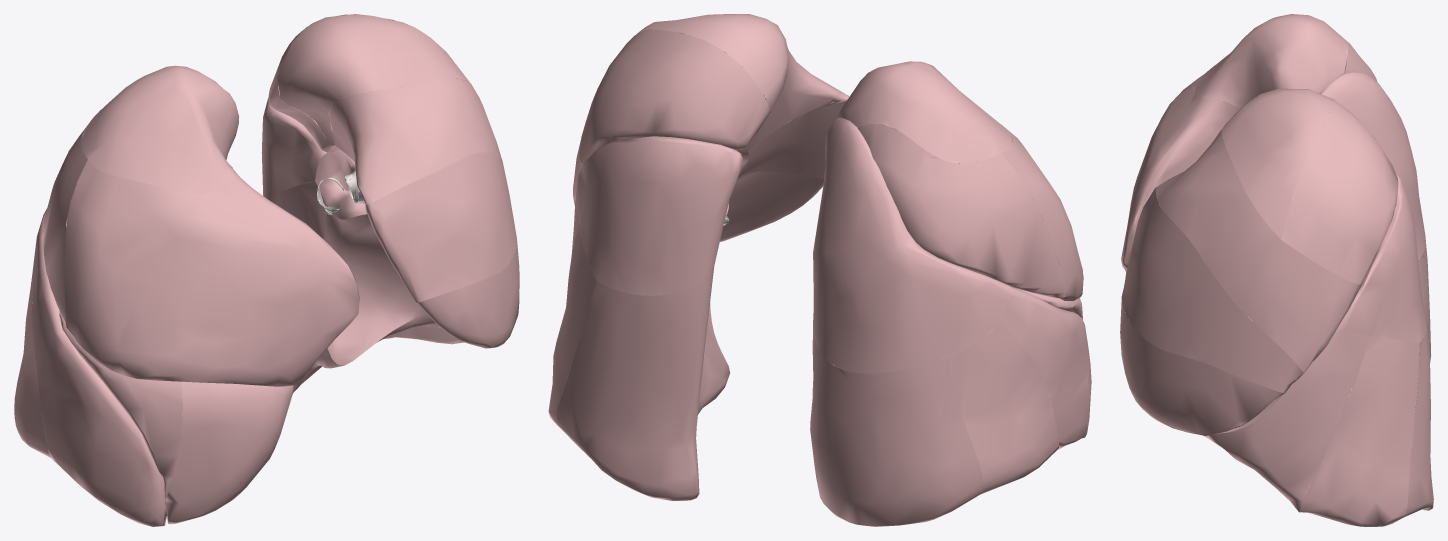
The model's file is 3d-vh-f-lung-20.fbx.
The picture shows the model from 3 angles, left to right: view 1: azimuth 30°, elevation 25°; view 2: azimuth 150°, elevation 25°; view 3: azimuth 270°, elevation 25°; orthographic projection. The views are drawn at different scales.
Visible parts, largest first — view 1: VH_F_right_anterior_bronchopulmonary_segm, VH_F_right_anterior_basal_bronchopulmonary_segment, VH_F_lingula_superior_bronchopulmonary_segment, VH_F_right_apical_bronchopulmonary_segment, VH_F_left_anterior_bronchopulmonary_segment, VH_F_left_apical_bronchopulmonary_segment, VH_F_right_medial_bronchopulmonary_segment, VH_F_left_medial_basal_bronchopulmonary_segment, VH_F_lingula_inferior_bronchopulmonary_segment, VH_F_right_lateral_bronchopulmonary_segmennt, VH_F_left_superior_bronchopulmonary_segment, VH_F_right_posterior_bronchopulmonary_segment (+6 smaller); view 2: VH_F_right_superior_bronchopulmonary_segment, VH_F_left_posterior_basal_bronchopulmonary_segment, VH_F_right_posterior_basal_bronchopulmonary_segment, VH_F_left_superior_bronchopulmonary_segment, VH_F_right_posterior_bronchopulmonary_segment, VH_F_left_posterior_bronchopulmonary_segment, VH_F_right_lateral_basal_bronchopulmonary_segment, VH_F_right_apical_bronchopulmonary_segment, VH_F_right_anterior_basal_bronchopulmonary_segment, VH_F_left_apical_bronchopulmonary_segment, VH_F_lingula_inferior_bronchopulmonary_segment, VH_F_lingula_superior_bronchopulmonary_segment (+3 smaller); view 3: VH_F_left_anterior_bronchopulmonary_segment, VH_F_lingula_superior_bronchopulmonary_segment, VH_F_left_lateral_basal_bronchopulmonary_segment, VH_F_left_posterior_bronchopulmonary_segment, VH_F_left_anterior_basal_bronchopulmonary_segment, VH_F_lingula_inferior_bronchopulmonary_segment, VH_F_left_apical_bronchopulmonary_segment, VH_F_right_apical_bronchopulmonary_segment, VH_F_left_superior_bronchopulmonary_segment, VH_F_right_anterior_bronchopulmonary_segm, VH_F_right_superior_bronchopulmonary_segment, VH_F_left_posterior_basal_bronchopulmonary_segment (+2 smaller).
Boxes of the visible parts, <box> form: VH_F_right_anterior_bronchopulmonary_segm: <box>64,159,359,386</box>; VH_F_right_anterior_basal_bronchopulmonary_segment: <box>32,266,182,526</box>; VH_F_lingula_superior_bronchopulmonary_segment: <box>363,152,516,302</box>; VH_F_right_apical_bronchopulmonary_segment: <box>81,65,239,193</box>; VH_F_left_anterior_bronchopulmonary_segment: <box>329,79,502,204</box>; VH_F_left_apical_bronchopulmonary_segment: <box>277,14,471,145</box>; VH_F_right_medial_bronchopulmonary_segment: <box>164,381,293,524</box>; VH_F_left_medial_basal_bronchopulmonary_segment: <box>324,170,438,365</box>; VH_F_lingula_inferior_bronchopulmonary_segment: <box>416,241,519,348</box>; VH_F_right_lateral_bronchopulmonary_segmennt: <box>59,311,182,498</box>; VH_F_left_superior_bronchopulmonary_segment: <box>261,85,331,197</box>; VH_F_right_posterior_bronchopulmonary_segment: <box>43,110,100,325</box>; VH_F_right_superior_bronchopulmonary_segment: <box>813,117,1013,373</box>; VH_F_left_posterior_basal_bronchopulmonary_segment: <box>556,266,729,500</box>; VH_F_right_posterior_basal_bronchopulmonary_segment: <box>810,320,983,526</box>; VH_F_left_superior_bronchopulmonary_segment: <box>576,136,742,295</box>; VH_F_right_posterior_bronchopulmonary_segment: <box>857,124,1064,297</box>; VH_F_left_posterior_bronchopulmonary_segment: <box>579,29,769,164</box>; VH_F_right_lateral_basal_bronchopulmonary_segment: <box>948,323,1059,494</box>; VH_F_right_apical_bronchopulmonary_segment: <box>837,61,1012,163</box>; VH_F_right_anterior_basal_bronchopulmonary_segment: <box>946,286,1091,449</box>; VH_F_left_apical_bronchopulmonary_segment: <box>637,14,788,113</box>; VH_F_lingula_inferior_bronchopulmonary_segment: <box>720,157,823,241</box>; VH_F_lingula_superior_bronchopulmonary_segment: <box>739,95,848,178</box>; VH_F_left_anterior_bronchopulmonary_segment: <box>1155,130,1362,372</box>; VH_F_lingula_superior_bronchopulmonary_segment: <box>1121,188,1303,393</box>; VH_F_left_lateral_basal_bronchopulmonary_segment: <box>1300,335,1419,526</box>; VH_F_left_posterior_bronchopulmonary_segment: <box>1281,100,1398,284</box>; VH_F_left_anterior_basal_bronchopulmonary_segment: <box>1203,330,1370,512</box>; VH_F_lingula_inferior_bronchopulmonary_segment: <box>1120,299,1284,435</box>; VH_F_left_apical_bronchopulmonary_segment: <box>1221,88,1334,239</box>; VH_F_right_apical_bronchopulmonary_segment: <box>1195,14,1349,109</box>; VH_F_left_superior_bronchopulmonary_segment: <box>1335,173,1426,342</box>; VH_F_right_anterior_bronchopulmonary_segm: <box>1121,65,1239,272</box>; VH_F_right_superior_bronchopulmonary_segment: <box>1319,71,1425,259</box>; VH_F_left_posterior_basal_bronchopulmonary_segment: <box>1352,323,1433,516</box>.
Bounding box in the file's own units: 25.12 × 22.3 × 15.27.
